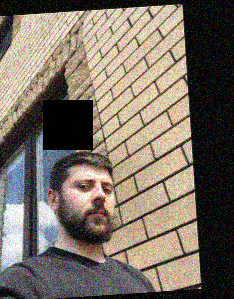without_mask: (68, 171, 117, 244)
